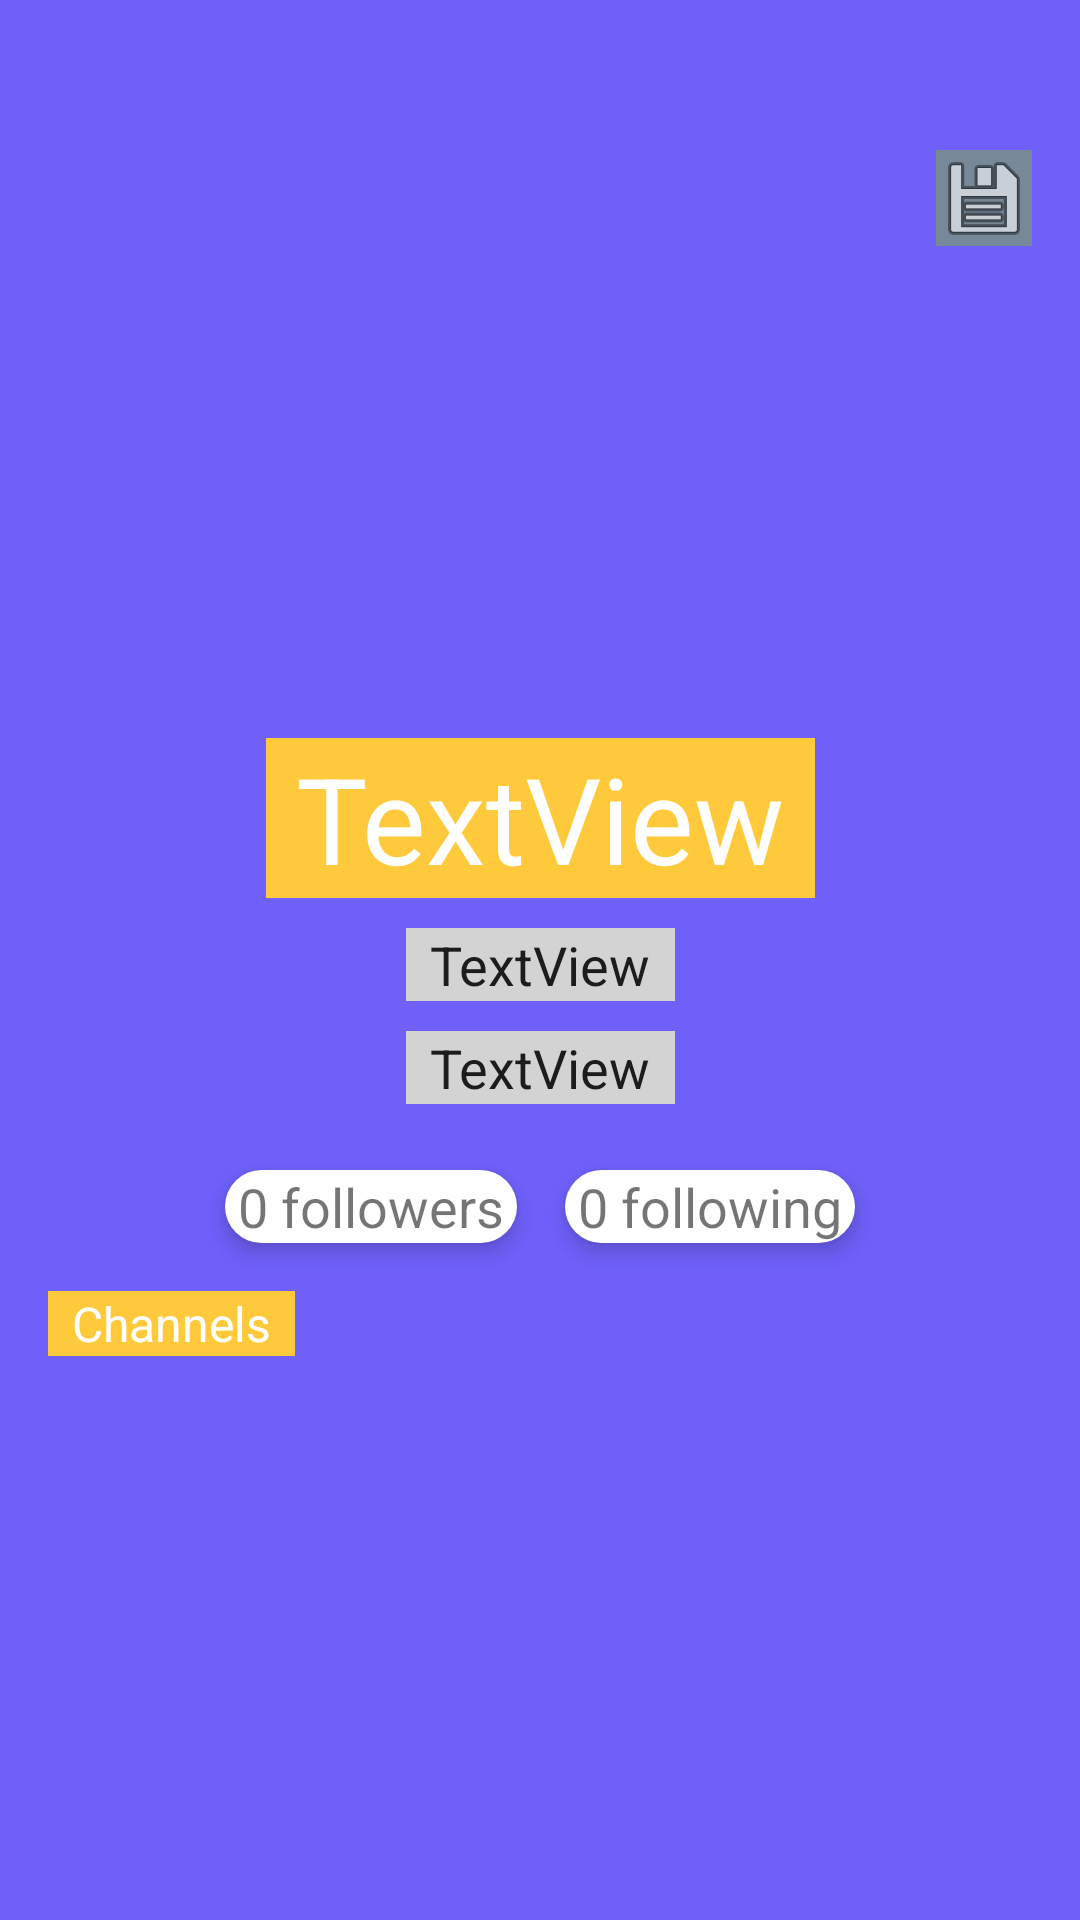

Icon click points for this 1080w x 1920h phone screenshot, format (x,y):
save: (984,198)
